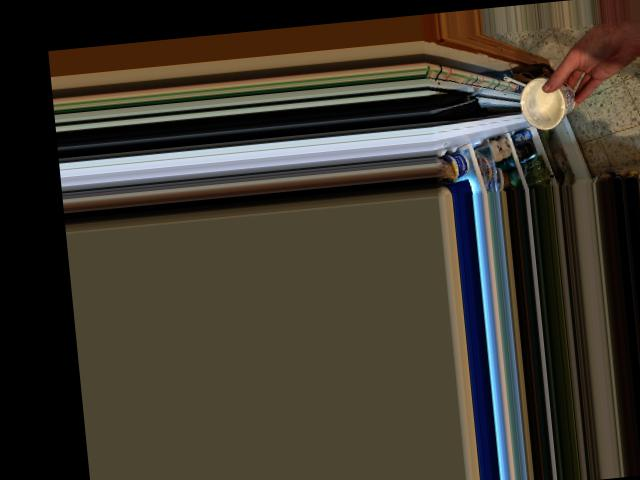cotage: (518, 69, 580, 122)
